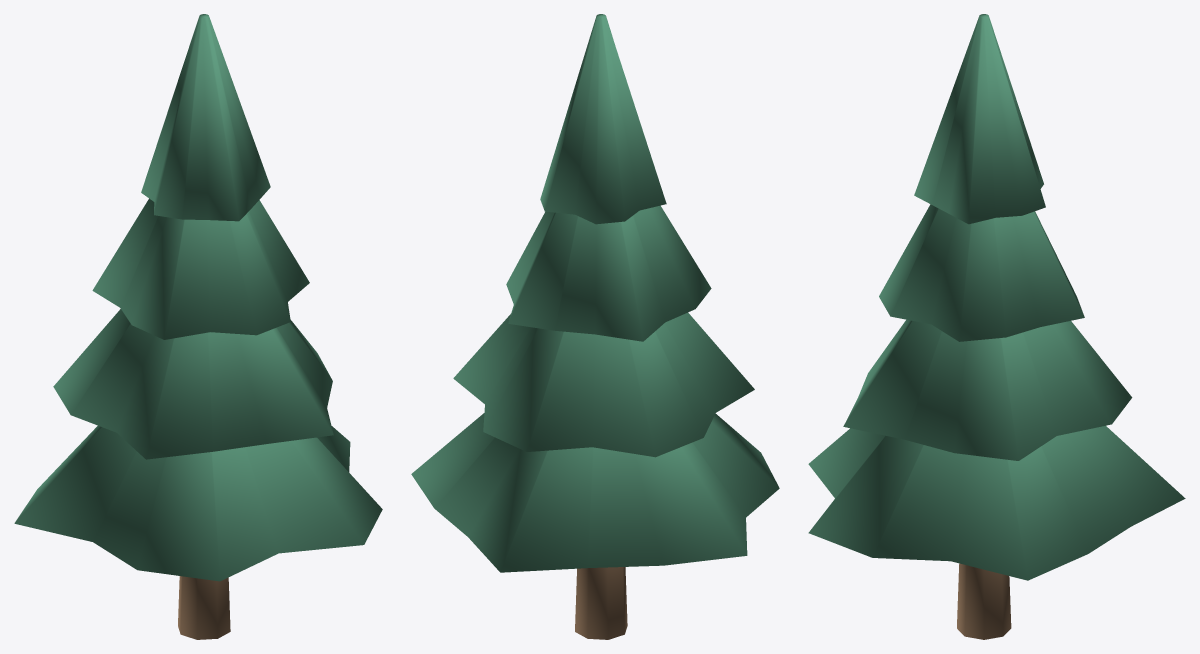
File: Tree_Pine_0.fbx
3 renders of one model, left to right at view 1: azimuth 30°, elevation 25°; view 2: azimuth 150°, elevation 25°; view 3: azimuth 270°, elevation 25°, orthographic.
Visible parts, largest first — view 1: Tree_Pine_0; view 2: Tree_Pine_0; view 3: Tree_Pine_0.
Boxes of the visible parts, left/top/right/bottom form: Tree_Pine_0: left=14, top=14, right=382, bottom=639; Tree_Pine_0: left=411, top=14, right=779, bottom=639; Tree_Pine_0: left=808, top=14, right=1185, bottom=639.
Size of the model in its own units: 3.98 by 6.94 by 3.87.
